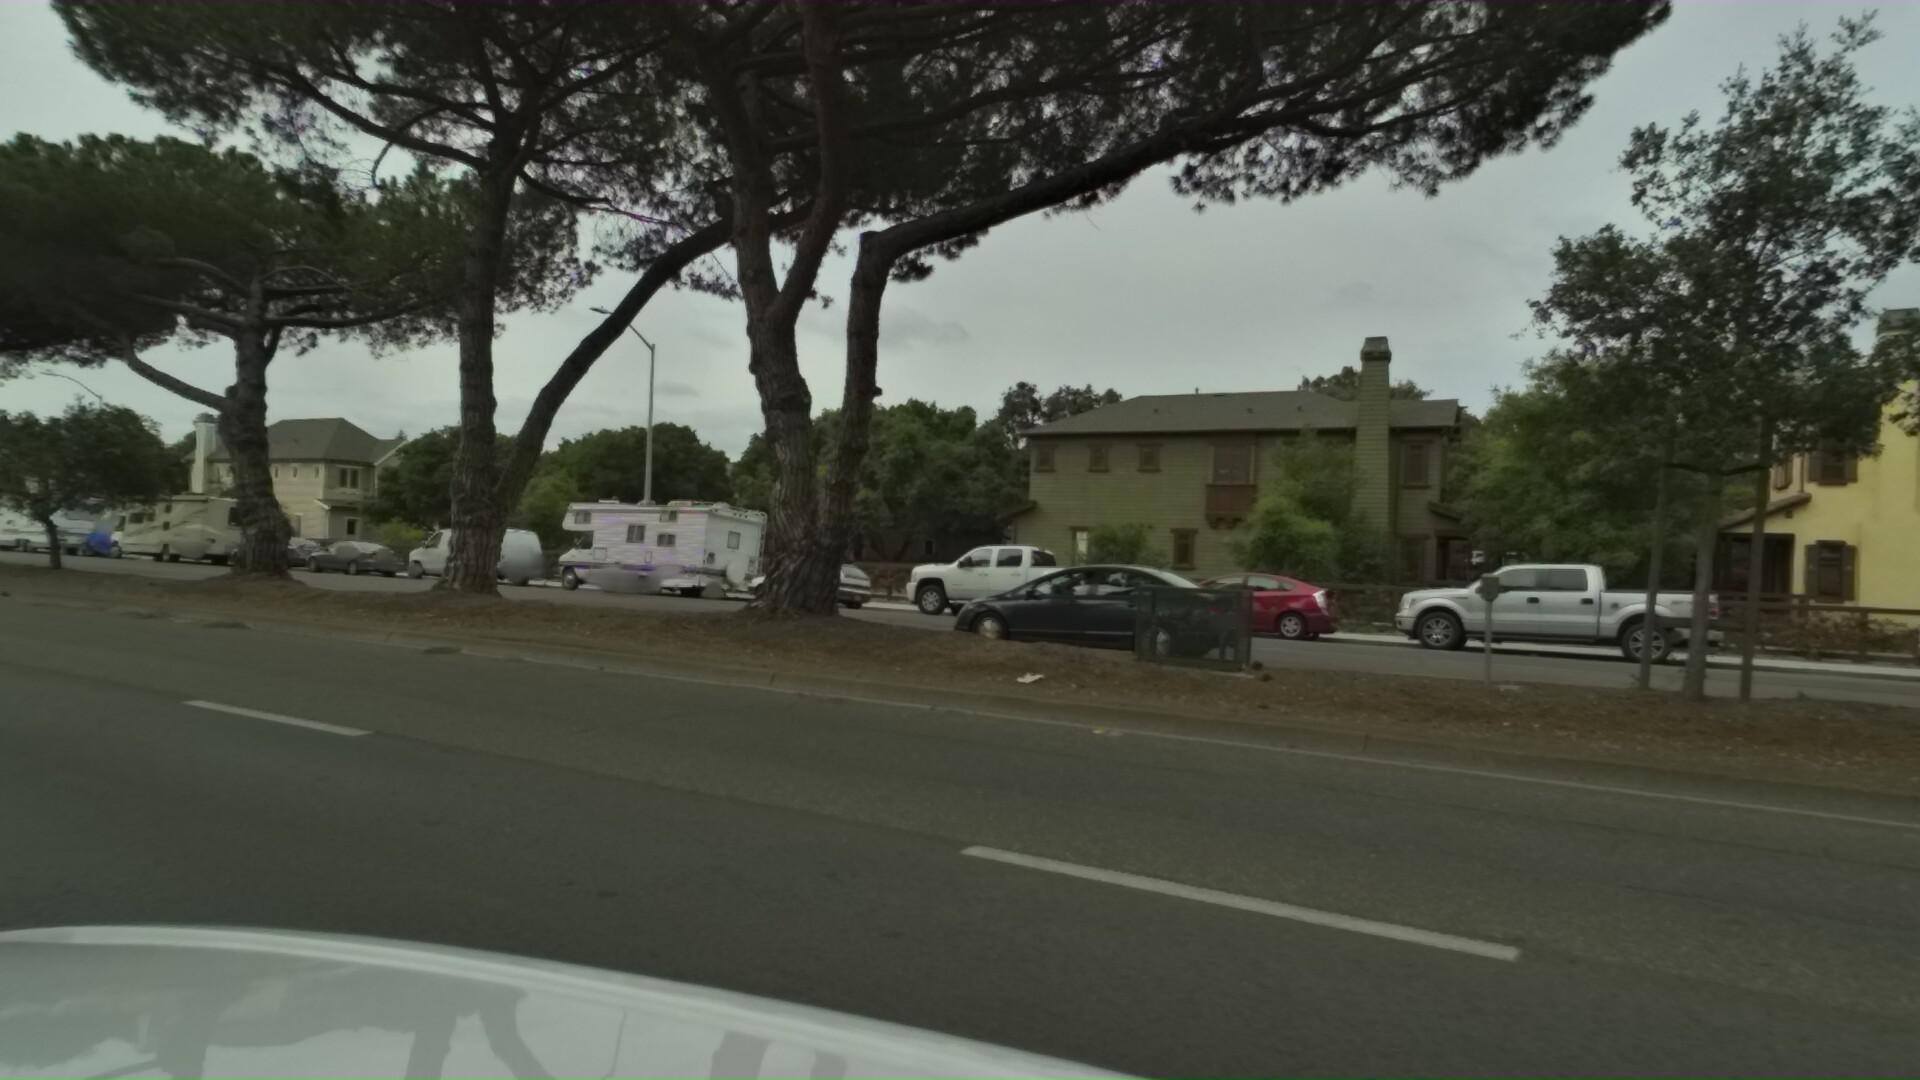bicycle: (0, 525, 17, 556)
car: (1345, 550, 1688, 675), (874, 553, 1183, 673), (870, 535, 1127, 632), (1102, 560, 1323, 645), (382, 522, 541, 589), (716, 539, 862, 611), (284, 538, 404, 580), (210, 534, 330, 574)
other_vehicle: (531, 497, 760, 604), (1844, 495, 1920, 745), (91, 487, 272, 570), (0, 483, 152, 566)
